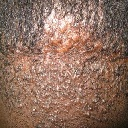Keloids: (14, 62, 101, 114), (44, 10, 90, 53)
